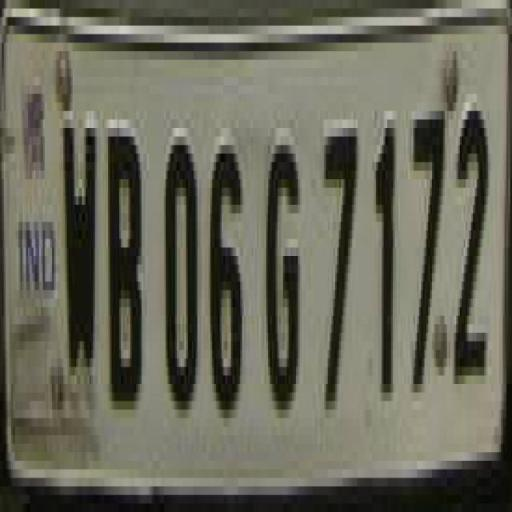number plate: (0, 17, 486, 511)
